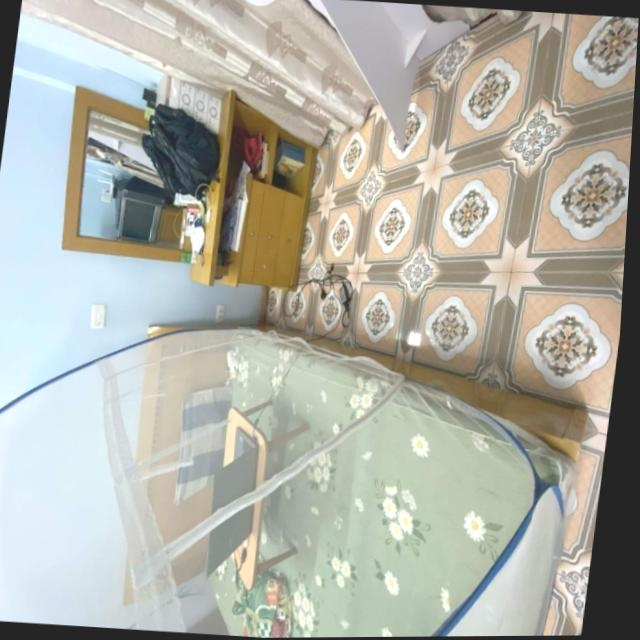outlet: (213, 303, 225, 322)
